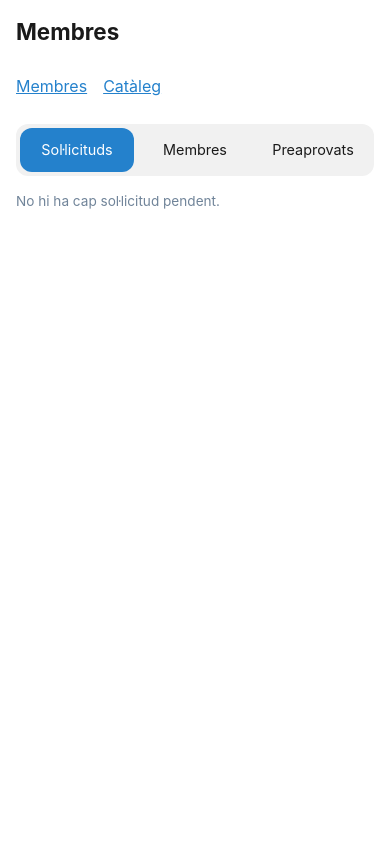
Scenario: Admin → Members (PRD §10, US-1.2–1.4) › offers the right actions per state on the members tab
Click the tab "Membres" at [195, 150], box [138, 128, 252, 172]
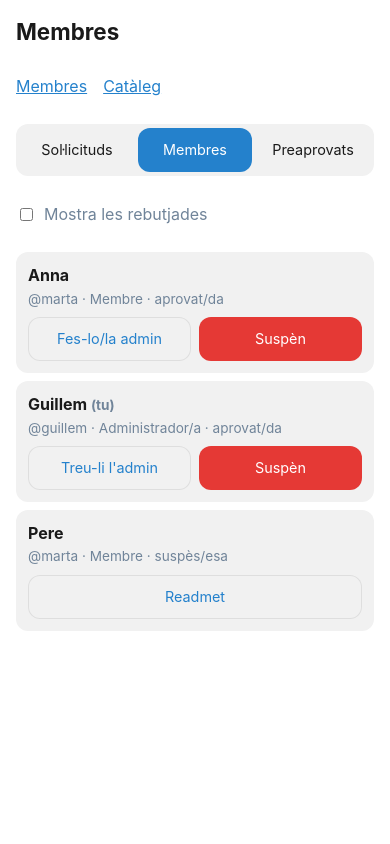
Result: the number of list items with test id "member" is 3 at [16, 252, 374, 373]; [16, 381, 374, 502]; [16, 510, 374, 631]
Result: the text "(tu)" is shown at [91, 397, 115, 413]
